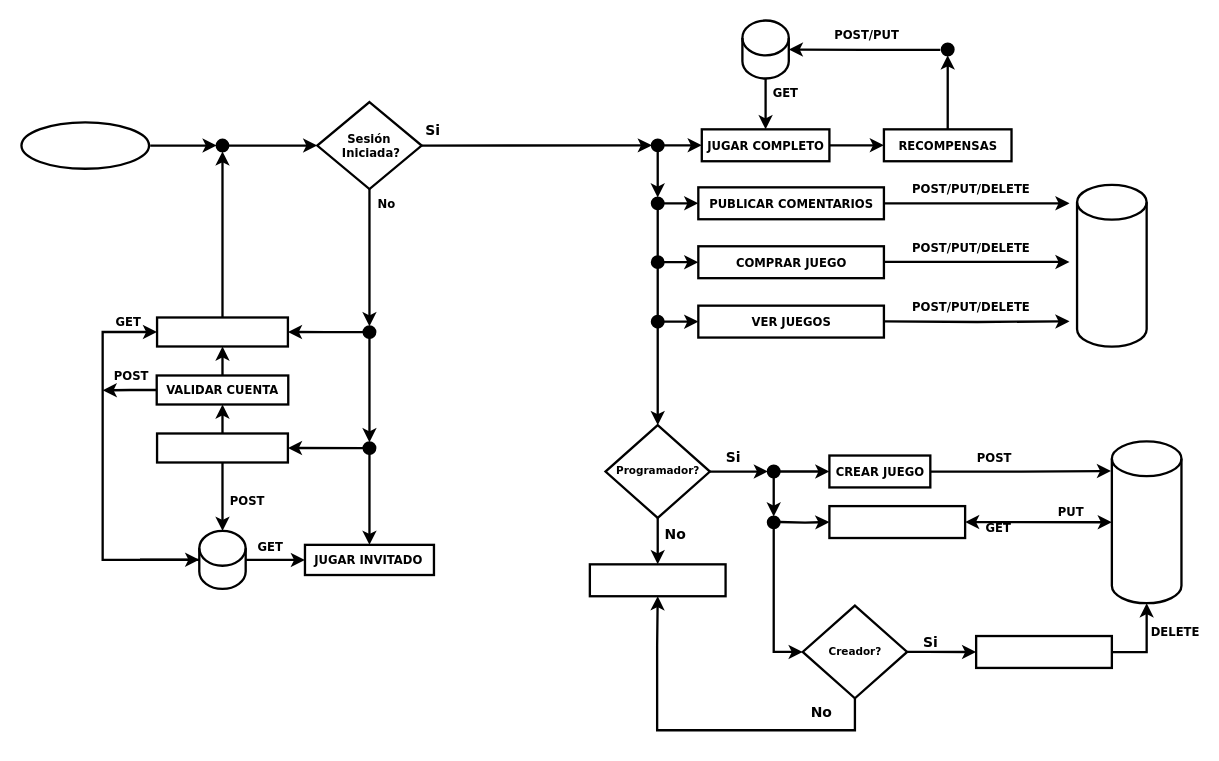
Image size: 1219x761. Some labels were removed from this diagram. The centre of each missing label's shape, as x and y in pixels:
"ELIMINAR JUEGO" belongs at (x=1043, y=651).
"HOME PAGE" belongs at (x=85, y=145).
"LOGIN" belongs at (x=221, y=331).
"MODIFICAR JUEGO" belongs at (x=897, y=521).
"REGISTER" belongs at (x=221, y=447).
"SOLICITAR RANGO" belongs at (x=657, y=580).
